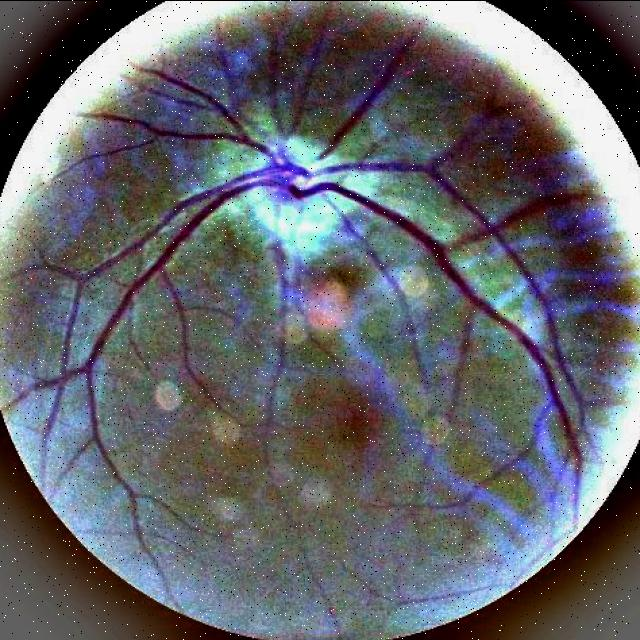Macula: (313, 378, 391, 462)
Nerves: (281, 95, 597, 441), (31, 155, 291, 460)
Optic Disk: (216, 117, 371, 272)
